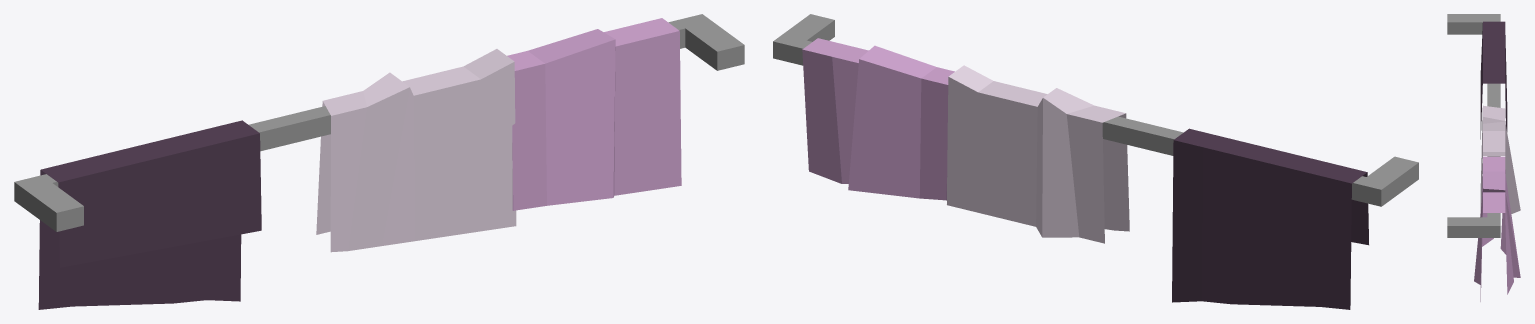
Rendered from clothes3.gltf.
3 views of the same model, side by side, from view 1: azimuth 30°, elevation 25°; view 2: azimuth 150°, elevation 25°; view 3: azimuth 270°, elevation 25° (orthographic). The views are drawn at different scales.
Parts seen in each view (by area): view 1: plane (×3), cuboid (×3); view 2: plane (×3), cuboid (×3); view 3: plane (×3), cuboid (×3).
Part boxes in pixels (x1,y1,x2,y2): plane (×3): (38, 18, 681, 309); cuboid (×3): (14, 14, 744, 231); plane (×3): (802, 38, 1368, 309); cuboid (×3): (773, 14, 1418, 206); plane (×3): (1474, 21, 1520, 301); cuboid (×3): (1447, 14, 1500, 237).
Bounding box in the file's own units: 0.4688 × 0.1266 × 0.0688.
1 material, 1 textured.
